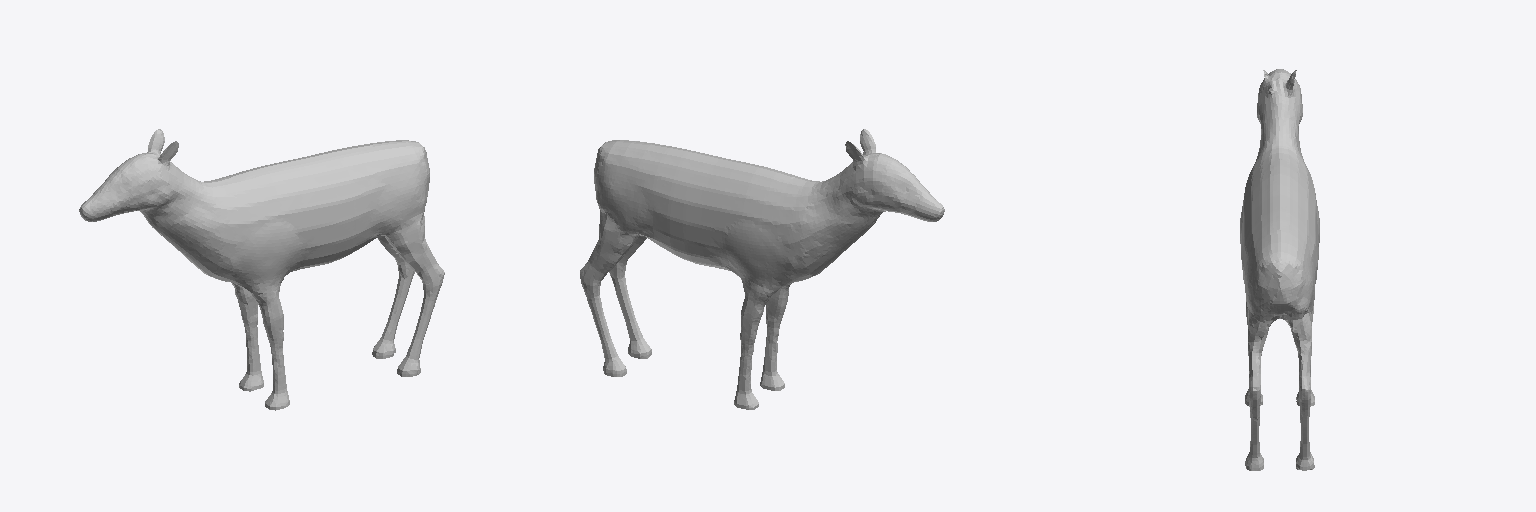
Rendered from deer_remeshed.obj.
The picture shows the model from 3 angles: view 1: azimuth 30°, elevation 25°; view 2: azimuth 150°, elevation 25°; view 3: azimuth 270°, elevation 25°; orthographic projection.
Bounding box in the file's own units: 4.29 × 3.33 × 0.8528.